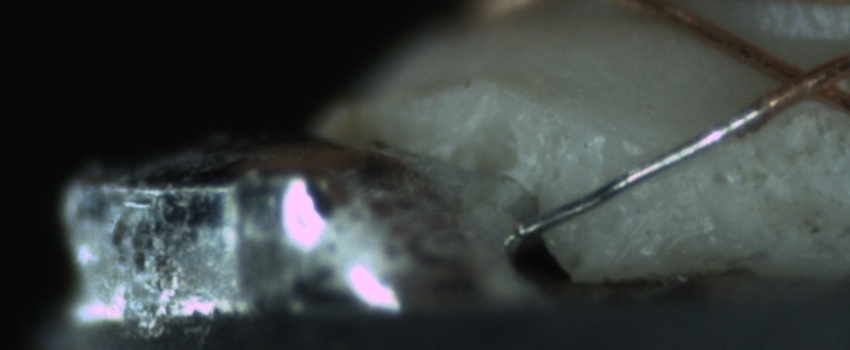CL: (754, 46, 844, 110)
TS: (517, 101, 773, 241)
TTCW: (520, 85, 809, 248)
